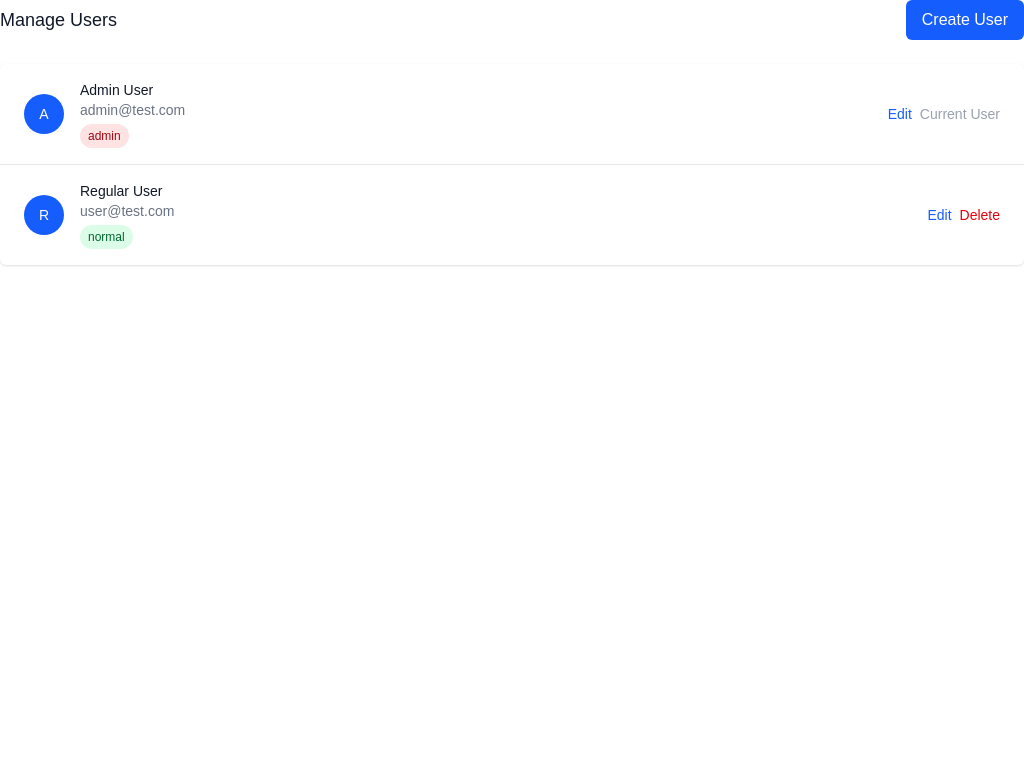
it: User Management Page › should open edit modal when edit button is clicked
The width and height of the screenshot is (1024, 768).
expect the text "Regular User" is shown: met, box [80,181,174,201]
Click the button "Edit" next to "Current User" at (900, 114), box [888,104,912,124]
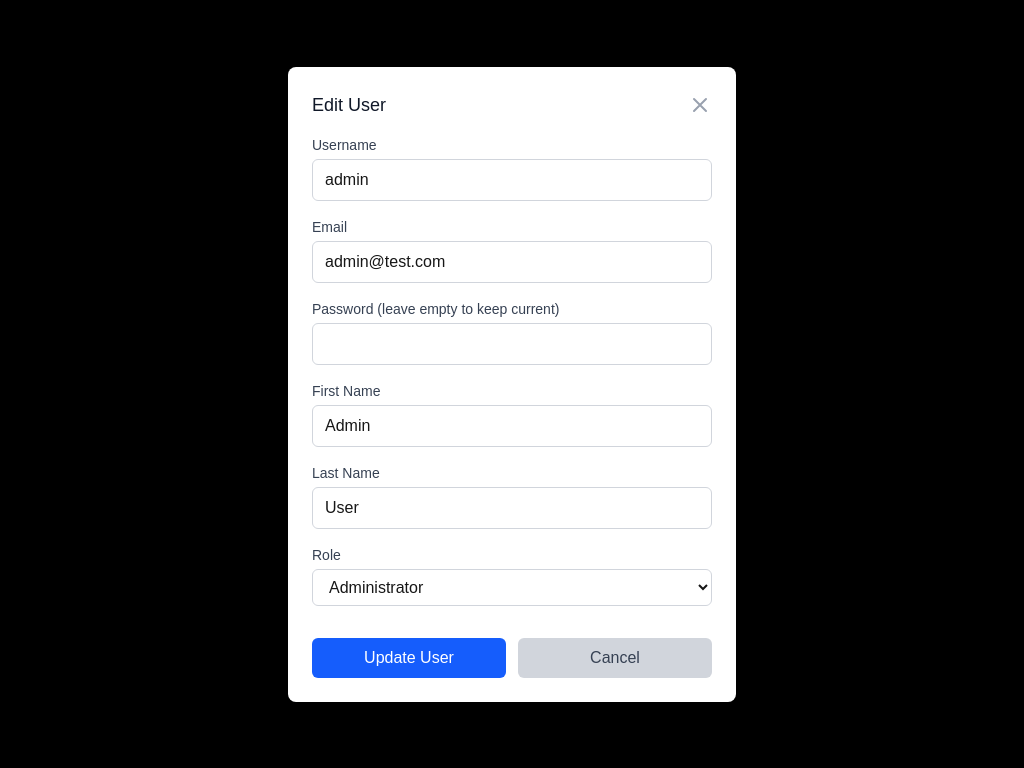
expect the heading "Edit User" is shown: met, box [312,90,386,118]
